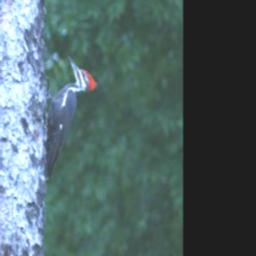Woodpecker: (42, 51, 96, 185)
